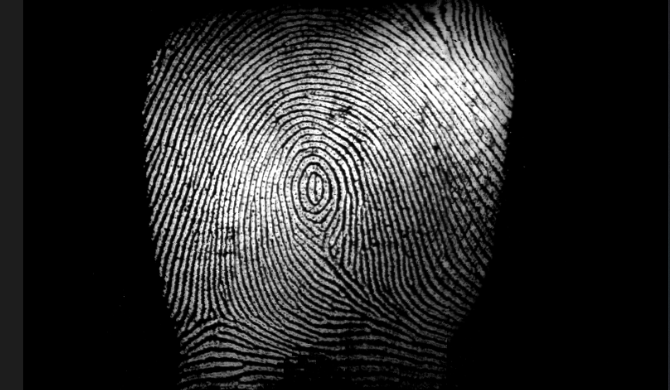deltas: (189, 281, 236, 339), (304, 226, 346, 271)
nucleo: (293, 158, 340, 211)
